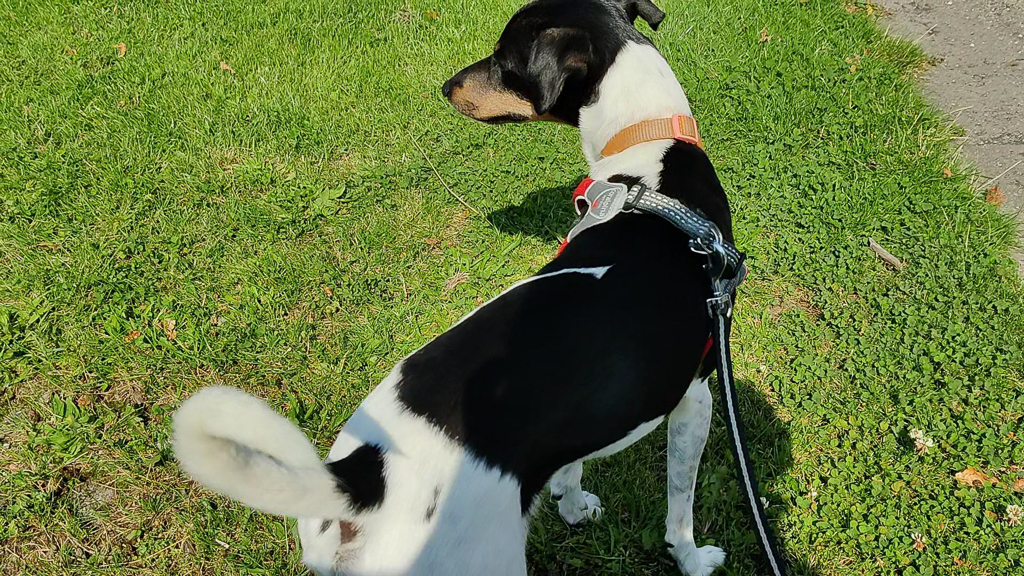Dog: (150, 0, 766, 576)
